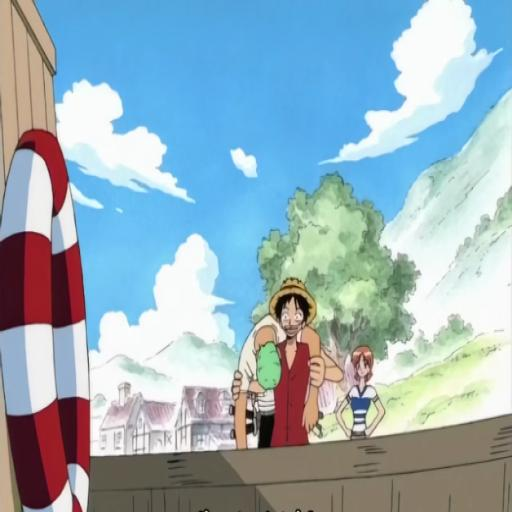Luffy: (266, 286, 321, 455)
Nami: (339, 342, 383, 460)
Zoro: (242, 316, 286, 404)
